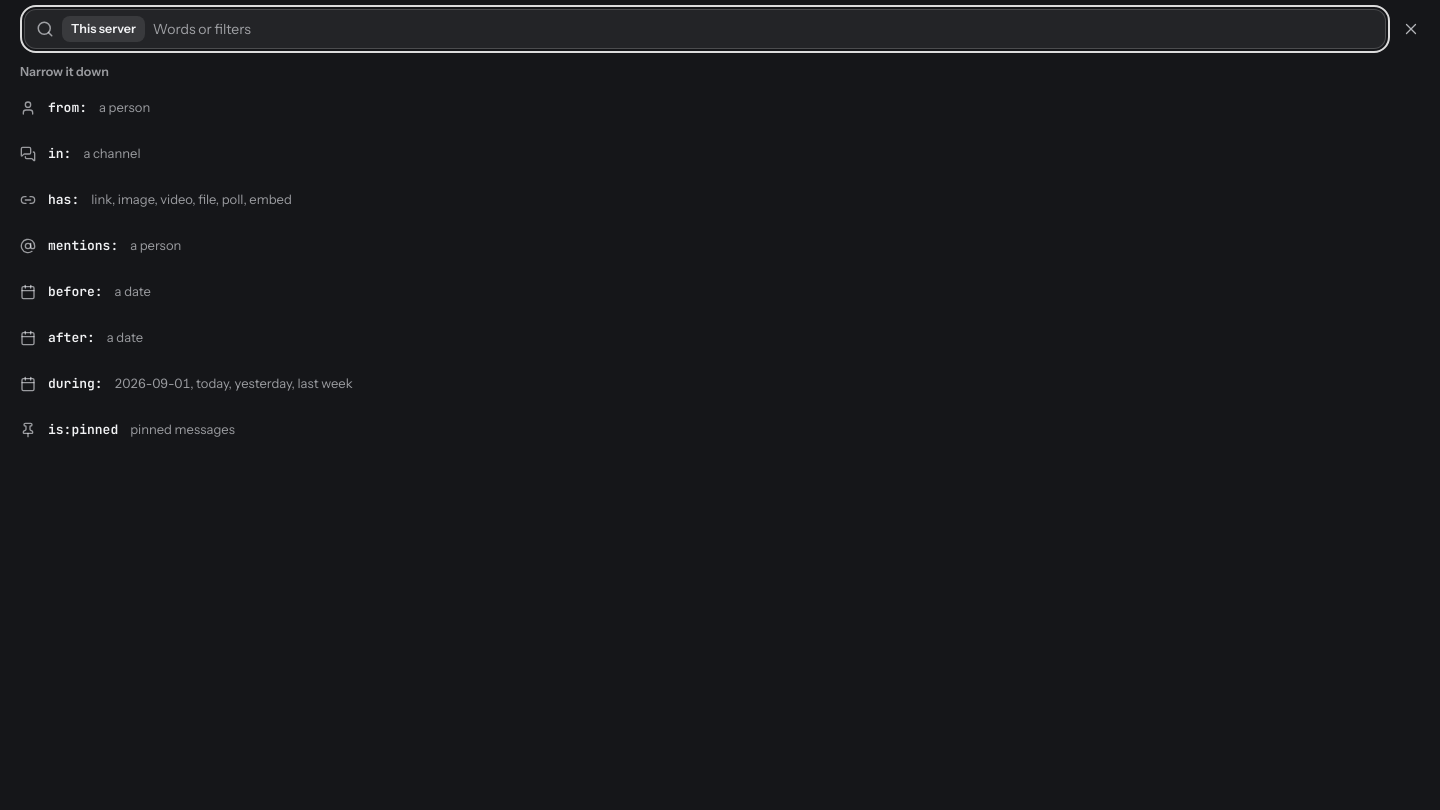
SearchOverlay › renders a result snippet as plain text with mentions resolved and spoilers hidden
Type "postgres" into the dropdown named "Search messages". click: (763, 29)
box: x1=153 y1=20 x2=1374 y2=38
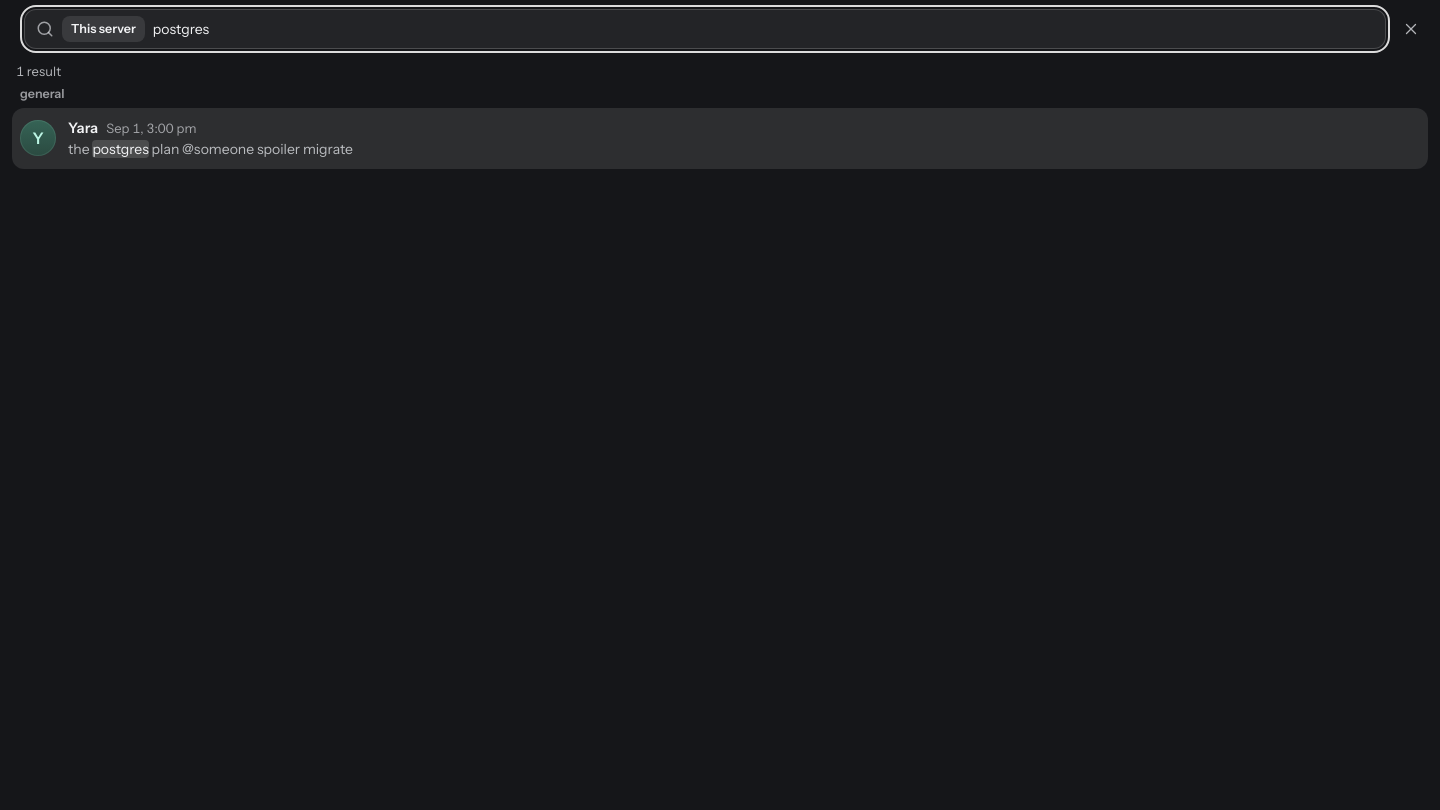
expect the element showing "the postgres plan @someone spoiler migrate" is shown: met, box x1=68 y1=140 x2=353 y2=158
